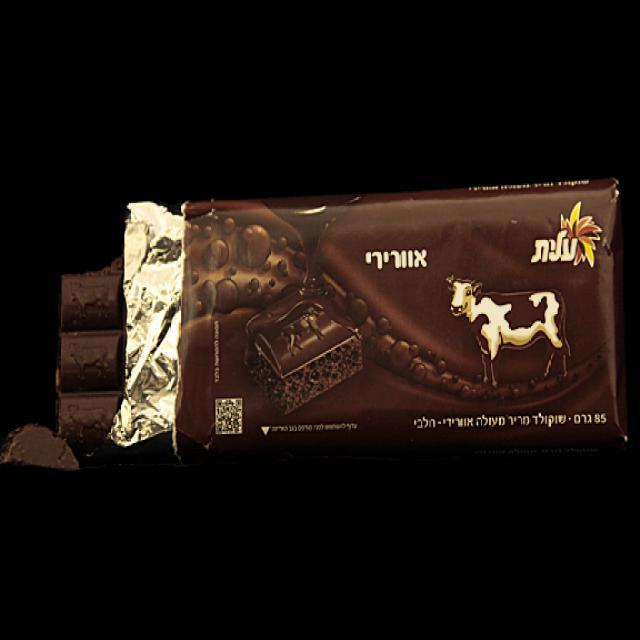Chocolate bar: (174, 175, 634, 449)
Chocolate bar packaged: (54, 250, 128, 458)
